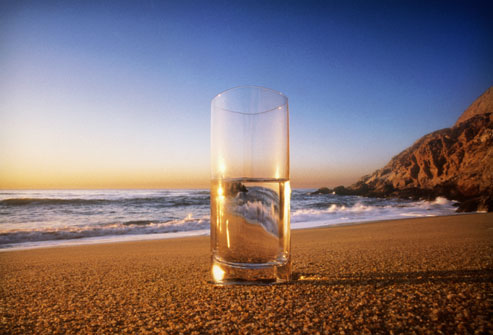glass of water: (208, 87, 292, 298)
